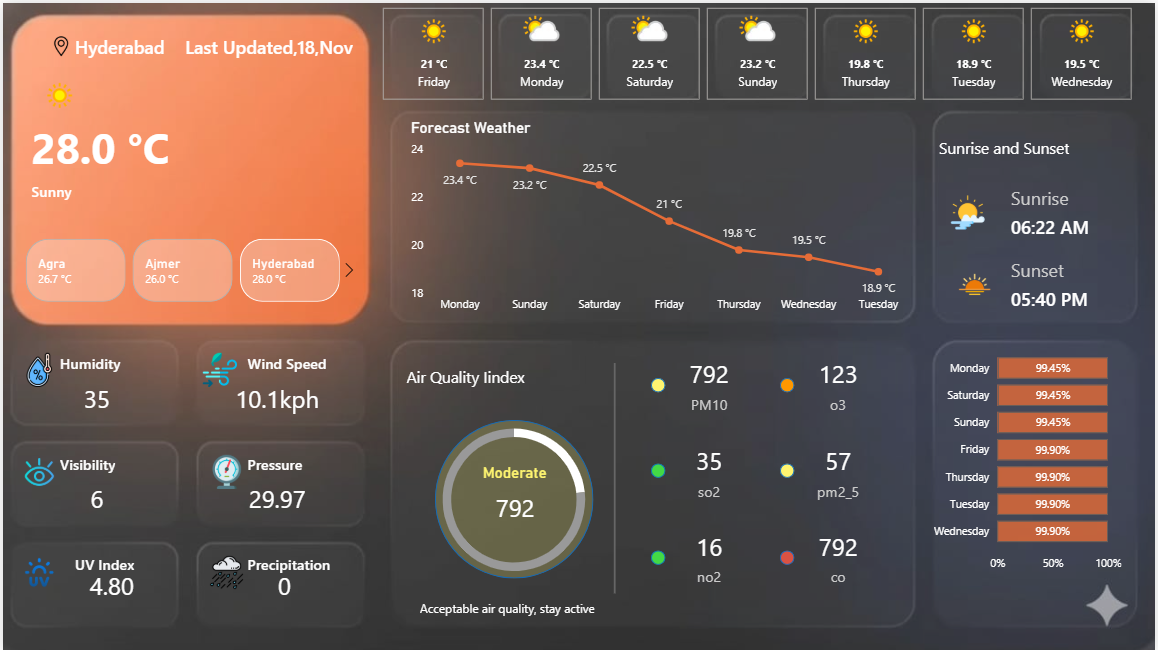

The dashboard page shown, as its layout file describes it:
{"tool":"powerbi","page":{"name":"Page 1","canvas":[1280,720],"ordinal":0},"visuals":[{"type":"shape","box":[480,464,176,176],"z":0},{"type":"advancedSlicerVisual","fields":{"Values":["location.location.name"]},"box":[0,256,400,80],"z":1000},{"type":"shape","box":[32,112,224,96],"z":2000},{"type":"shape","box":[32,176,224,64],"z":3000},{"type":"shape","box":[80,16,224,64],"z":4000},{"type":"shape","box":[192,16,208,64],"z":5000},{"type":"image","box":[48,32,32,32],"z":6000},{"type":"cardVisual","fields":{"Data":["Min(current.current.condition.icon)"]},"box":[16,48,96,112],"z":7000},{"type":"shape","box":[64,368,224,64],"z":8000},{"type":"shape","box":[272,368,224,64],"z":9000},{"type":"shape","box":[64,480,224,64],"z":10000},{"type":"shape","box":[272,480,224,64],"z":11000},{"type":"shape","box":[80,592,224,64],"z":12000},{"type":"shape","box":[272,592,224,64],"z":13000},{"type":"card","fields":{"Values":["Sum(current.current.humidity)"]},"box":[0,368,208,144],"z":14000},{"type":"card","fields":{"Values":["_measures.wind_speed"]},"box":[208,368,192,144],"z":15000},{"type":"card","fields":{"Values":["Sum(current.current.pressure_in)"]},"box":[208,480,192,144],"z":16000},{"type":"card","fields":{"Values":["Sum(current.current.precip_in)"]},"box":[208,576,208,144],"z":17000},{"type":"card","fields":{"Values":["Sum(current.current.vis_km)"]},"box":[0,480,208,144],"z":18000},{"type":"card","fields":{"Values":["Sum(current.current.uv)"]},"box":[16,576,208,144],"z":19000},{"type":"advancedSlicerVisual","fields":{"Values":["forcast_day.new_date"]},"box":[416,0,848,112],"z":20000},{"type":"lineChart","title":"Forecast Weather","fields":{"Category":["forcast_day.new_date"],"Y":["Sum(forcast_day.forecast.forecastday.day.avgtemp_c)"]},"box":[448,128,560,224],"z":21000},{"type":"shape","box":[1040,128,224,64],"z":22000},{"type":"shape","box":[1120,176,144,80],"z":23000},{"type":"shape","box":[1120,256,144,80],"z":24000},{"type":"shape","box":[1120,208,144,80],"z":25000},{"type":"shape","box":[1120,288,160,80],"z":26000},{"type":"shape","box":[448,384,224,64],"z":27000},{"type":"card","fields":{"Values":["Sum(current.current.air_quality.o3)"]},"box":[832,352,192,144],"z":28000},{"type":"card","fields":{"Values":["Sum(current.current.air_quality.pm2_5)"]},"box":[832,448,192,144],"z":29000},{"type":"card","fields":{"Values":["Sum(current.current.air_quality.co)"]},"box":[688,352,192,144],"z":30000},{"type":"card","fields":{"Values":["Sum(current.current.air_quality.so2)"]},"box":[688,448,192,144],"z":31000},{"type":"card","fields":{"Values":["Sum(current.current.air_quality.co)"]},"box":[832,544,192,144],"z":32000},{"type":"card","fields":{"Values":["Sum(current.current.air_quality.no2)"]},"box":[688,544,192,144],"z":33000},{"type":"shape","box":[720,416,16,16],"z":34000},{"type":"shape","box":[864,608,16,16],"z":35000},{"type":"shape","box":[720,512,16,16],"z":36000},{"type":"shape","box":[720,608,16,16],"z":37000},{"type":"shape","box":[864,416,16,16],"z":38000},{"type":"shape","box":[864,512,16,16],"z":39000},{"type":"shape","box":[672,400,16,256],"z":40000},{"type":"donutChart","fields":{"Y":["_measures.leftvaluepf10","Sum(current.current.air_quality.co)"]},"box":[464,432,208,240],"z":41000},{"type":"card","fields":{"Values":["Sum(current.current.air_quality.co)"]},"box":[496,512,144,80],"z":42000},{"type":"shape","box":[464,640,208,64],"z":43000},{"type":"image","box":[208,496,80,48],"z":43002},{"type":"image","box":[0,496,80,48],"z":43003},{"type":"image","box":[0,384,80,48],"z":43004},{"type":"image","box":[0,608,80,48],"z":43005},{"type":"image","box":[208,608,80,48],"z":43006},{"type":"image","box":[176,384,128,48],"z":43007},{"type":"image","box":[992,208,160,48],"z":43008},{"type":"image","box":[1024,288,112,48],"z":43009},{"type":"hundredPercentStackedBarChart","fields":{"Y":["Sum(forcast_day.Calculated Chance of Rain1 %)","_measures.left_value_rain"],"Category":["forcast_day.new_date"]},"box":[1024,368,224,272],"z":43010}]}

Visuals, with their boxes in screenshot pixels (x1, y1, x2, y2), scaled from the page's 1280x720 canvas onto the 1158x650 screenshot:
shape: 434, 419, 593, 578
advancedSlicerVisual - location.location.name: 0, 231, 362, 303
shape: 29, 101, 232, 188
shape: 29, 159, 232, 217
shape: 72, 14, 275, 72
shape: 174, 14, 362, 72
image: 43, 29, 72, 58
cardVisual - Min(current.current.condition.icon): 14, 43, 101, 144
shape: 58, 332, 261, 390
shape: 246, 332, 449, 390
shape: 58, 433, 261, 491
shape: 246, 433, 449, 491
shape: 72, 534, 275, 592
shape: 246, 534, 449, 592
card - Sum(current.current.humidity): 0, 332, 188, 462
card - _measures.wind_speed: 188, 332, 362, 462
card - Sum(current.current.pressure_in): 188, 433, 362, 563
card - Sum(current.current.precip_in): 188, 520, 376, 649
card - Sum(current.current.vis_km): 0, 433, 188, 563
card - Sum(current.current.uv): 14, 520, 203, 649
advancedSlicerVisual - forcast_day.new_date: 376, 0, 1144, 101
"Forecast Weather" lineChart: 405, 116, 912, 318
shape: 941, 116, 1144, 173
shape: 1013, 159, 1144, 231
shape: 1013, 231, 1144, 303
shape: 1013, 188, 1144, 260
shape: 1013, 260, 1157, 332
shape: 405, 347, 608, 404
card - Sum(current.current.air_quality.o3): 753, 318, 926, 448
card - Sum(current.current.air_quality.pm2_5): 753, 404, 926, 534
card - Sum(current.current.air_quality.co): 622, 318, 796, 448
card - Sum(current.current.air_quality.so2): 622, 404, 796, 534
card - Sum(current.current.air_quality.co): 753, 491, 926, 621
card - Sum(current.current.air_quality.no2): 622, 491, 796, 621
shape: 651, 376, 666, 390
shape: 782, 549, 796, 563
shape: 651, 462, 666, 477
shape: 651, 549, 666, 563
shape: 782, 376, 796, 390
shape: 782, 462, 796, 477
shape: 608, 361, 622, 592
donutChart - _measures.leftvaluepf10 x Sum(current.current.air_quality.co): 420, 390, 608, 607
card - Sum(current.current.air_quality.co): 449, 462, 579, 534
shape: 420, 578, 608, 636
image: 188, 448, 261, 491
image: 0, 448, 72, 491
image: 0, 347, 72, 390
image: 0, 549, 72, 592
image: 188, 549, 261, 592
image: 159, 347, 275, 390
image: 897, 188, 1042, 231
image: 926, 260, 1028, 303
hundredPercentStackedBarChart - Sum(forcast_day.Calculated Chance of Rain1 %) x _measures.left_value_rain: 926, 332, 1129, 578
